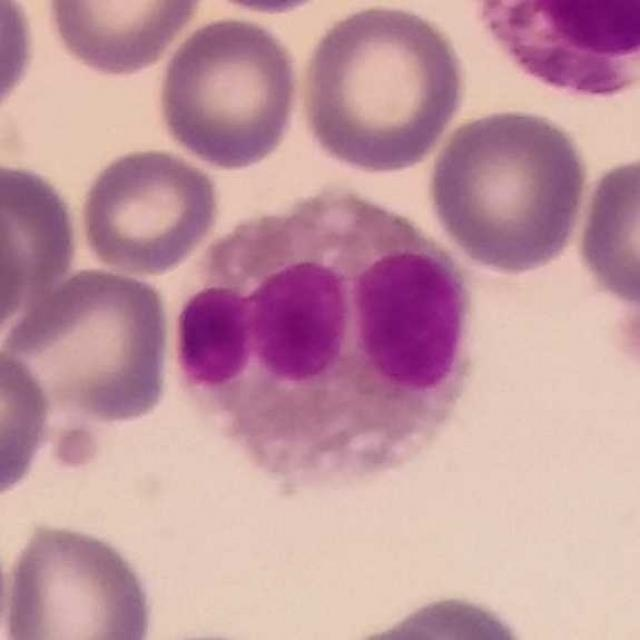Eosinophil: (165, 179, 484, 506), (468, 0, 639, 103)
Platelets: (48, 416, 98, 474)
RBC: (295, 8, 467, 177), (1, 265, 176, 430), (424, 105, 592, 275), (152, 12, 303, 173), (75, 144, 224, 277), (11, 517, 156, 640), (0, 155, 83, 333), (39, 0, 209, 80), (572, 149, 640, 314), (348, 589, 540, 640), (0, 344, 57, 505), (0, 170, 31, 356), (0, 0, 40, 124), (192, 0, 340, 18)
